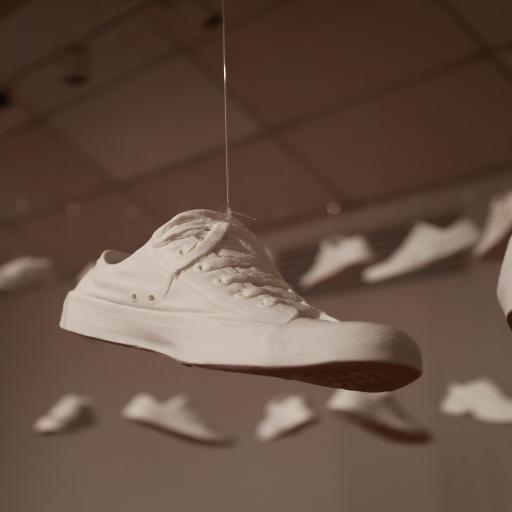shoe: (61, 210, 421, 392), (362, 219, 479, 283), (121, 393, 231, 444), (326, 390, 431, 442), (299, 235, 375, 289), (440, 377, 511, 423), (255, 394, 316, 442), (473, 191, 512, 260), (33, 394, 95, 434), (0, 256, 54, 291), (497, 242, 511, 329), (74, 261, 96, 283)
